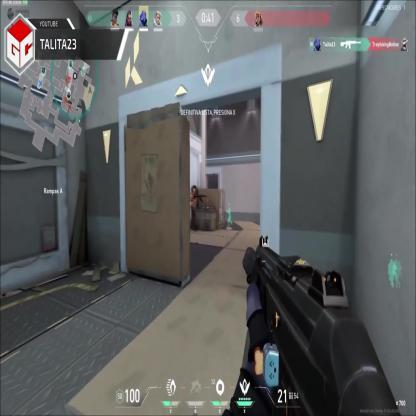enemy: (188, 183, 199, 232)
enemy_head: (191, 186, 196, 194)
